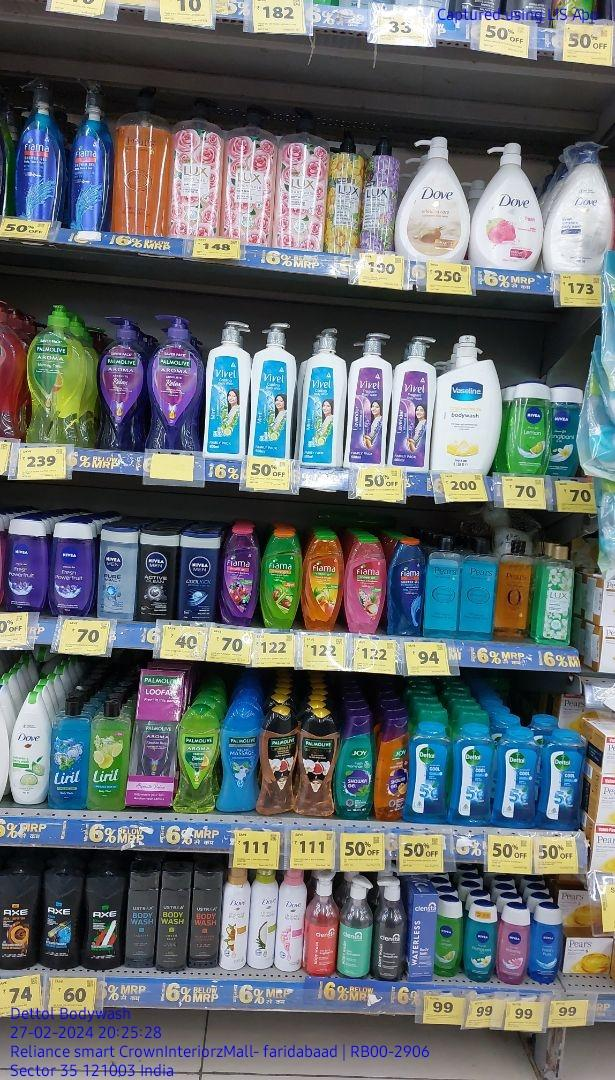Dettol_Bodywash_Cool: (543, 727, 587, 833), (499, 726, 537, 831), (411, 724, 450, 825), (455, 729, 493, 827)
Dove_Refreshing_Body_Wash_250ML: (11, 692, 50, 806)
Fiama_Shower_Gel_Lemongrass_and_Jojoba_250ML: (262, 528, 299, 631)
Fiama_Shower_Gel_Patchouli_and_Macadamia_250ML: (345, 536, 383, 636)
Fiama_Shower_Gel_Peach_and_Avocado_250ML: (305, 529, 342, 632)
Joy_Shower_Gel_Mandarin_and_Lemongrass_250ML: (378, 720, 408, 821)
Joy_Shower_Gel_Mint_and_Eucalyptus_250ML: (338, 713, 373, 823)
Liril_Cooling_Mint_Body_Wash_250ML: (51, 699, 88, 811)
Liril_Lime_and_Tea_Tree_Oil_Body_Wash_250ML: (91, 702, 126, 812)
Lux_Body_Wash_Skin_Detox_Freesia_Scent_and_Alove_Vera_245ML: (539, 544, 575, 645)
Nivea_Shower_Gel_Frangipani_and_Oil_250ML: (550, 380, 585, 478), (466, 900, 495, 985)
Nivea_Shower_Gel_Fresh_Powerfruit_250ML: (50, 518, 95, 621), (7, 515, 47, 618)
Nivea_Shower_Gel_Lemon_and_Oil_250ML: (510, 380, 550, 473), (436, 898, 462, 978)
Nivea_Shower_Gel_Waterlily_and_Oil_250ML: (497, 901, 530, 985)
Palmolive_Aroma_Moments_Feel_The_Massage_Shower_Gel_250ML: (221, 704, 258, 813)
Palmolive_Aroma_Morning_Tonic_Shower_Gel_250ML: (177, 704, 215, 815)
Palmolive_Luminous_Oils_With_White_Orchid_Shower_Gel_250ML: (299, 710, 336, 819), (261, 705, 295, 818)
Pears_Pure_Glycerin_and_Mint_Extracts_Body_Wash_250ML: (464, 536, 497, 637), (428, 536, 460, 639)
